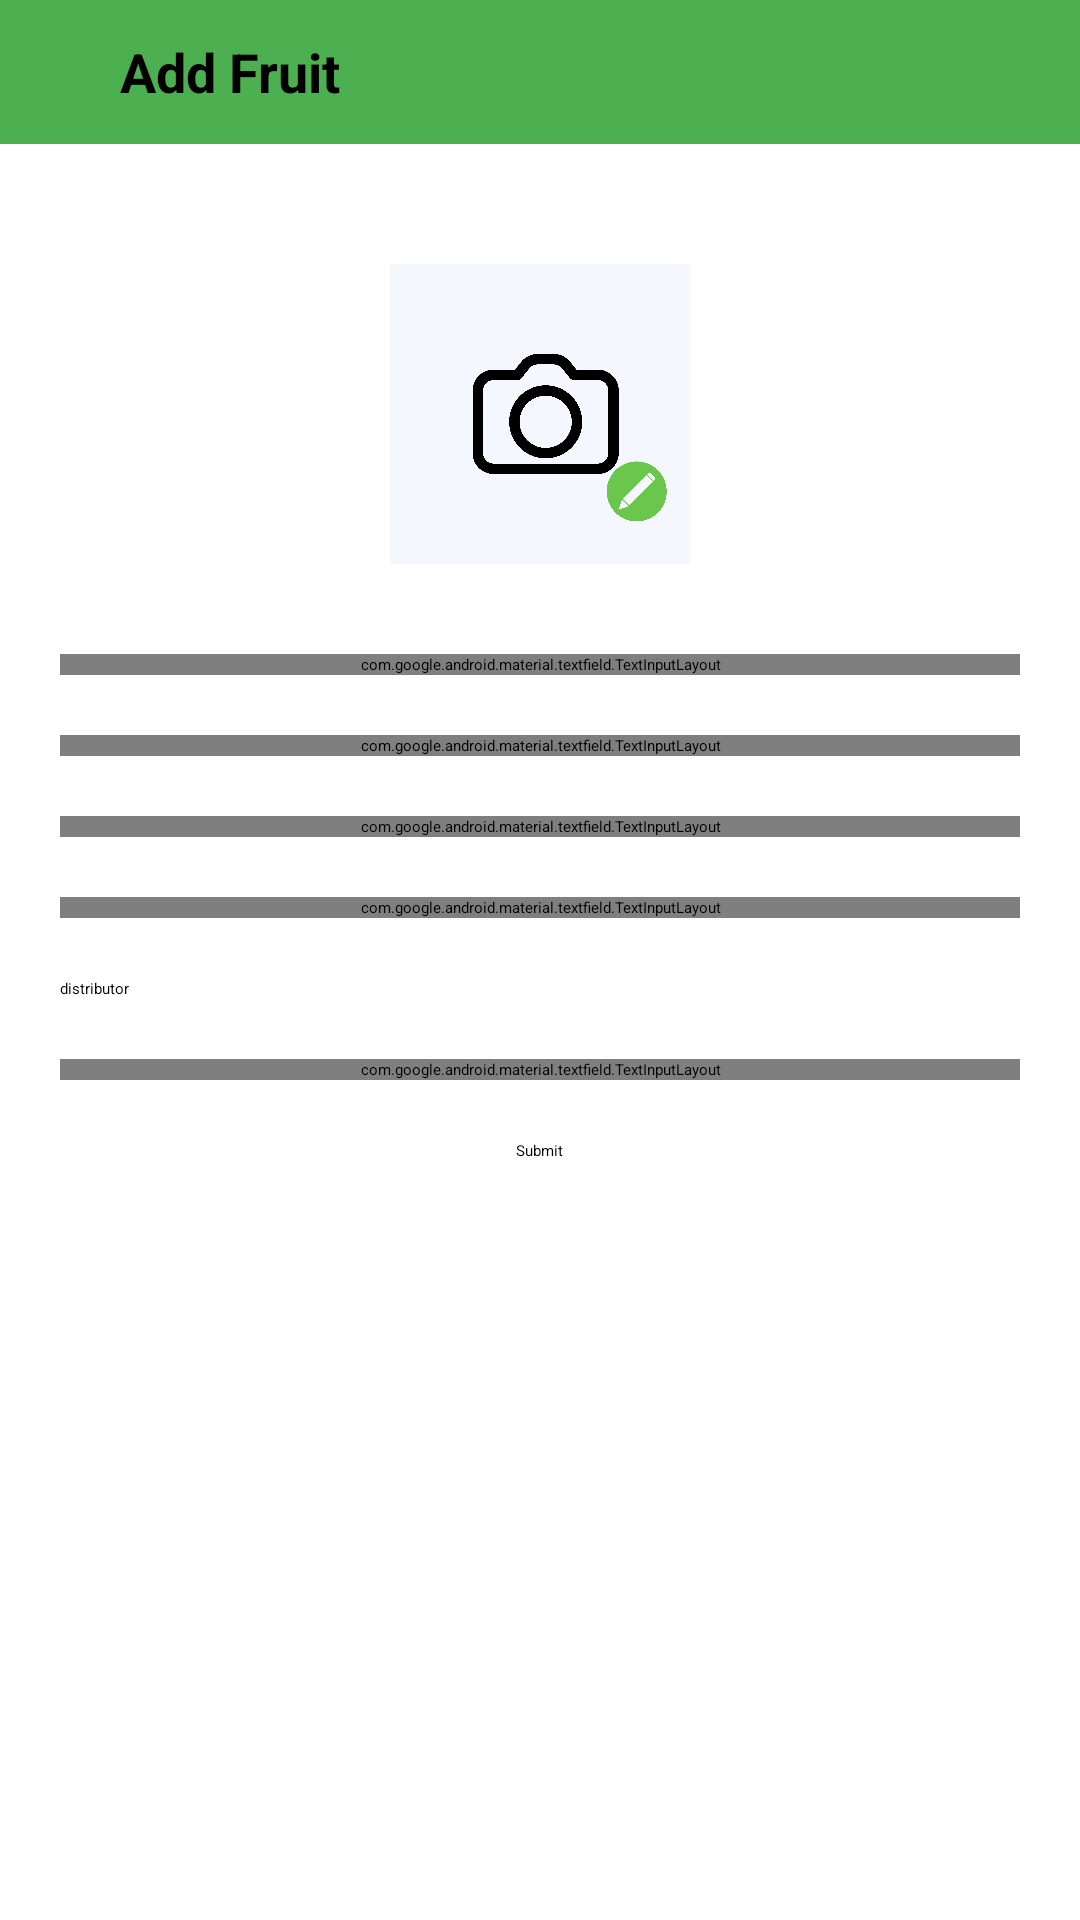

Icons on this 1080 x 1920 Android screen, each with its box as (x1, y1, x2, y2):
camera: (390, 264, 690, 564)
